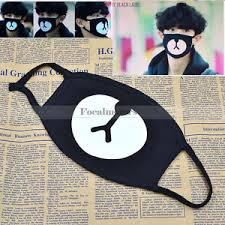OK: (163, 25, 195, 57), (83, 12, 108, 38), (6, 9, 27, 30), (41, 12, 60, 33)
